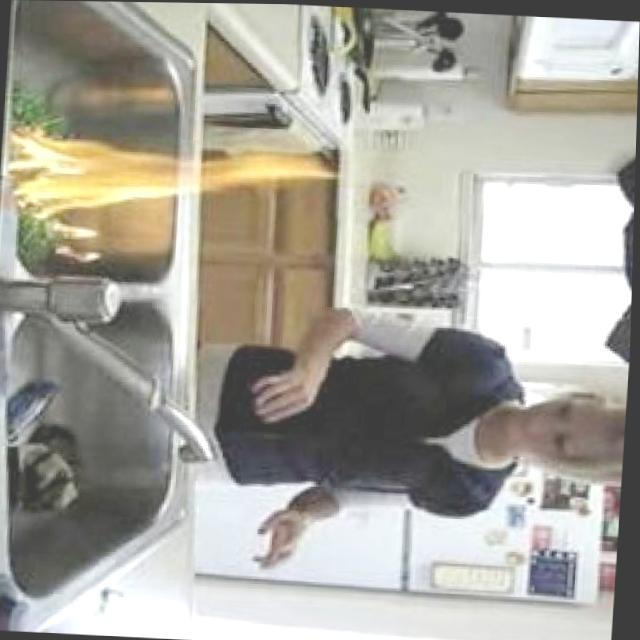Fire: (5, 125, 329, 227), (45, 220, 95, 269)
